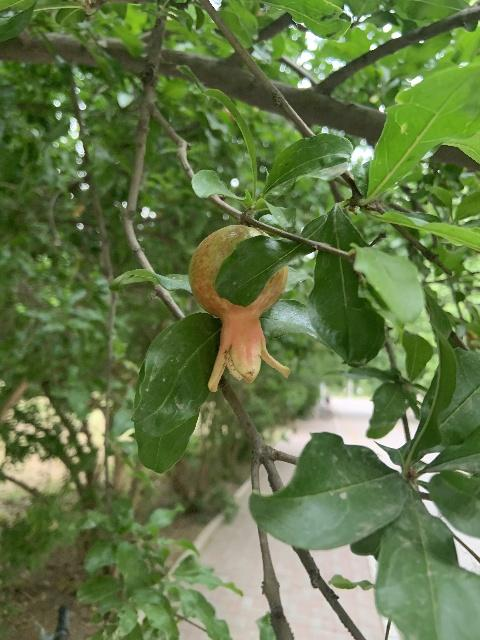early-fruit: (188, 226, 291, 390)
